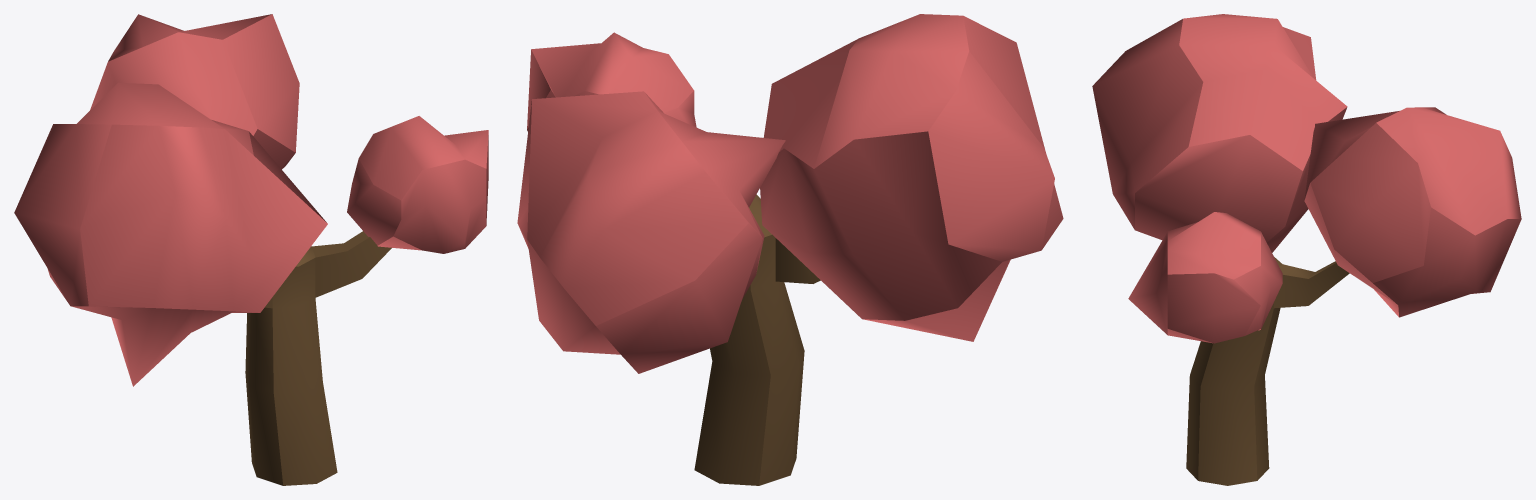
File: Tree.fbx
3 renders of one model, left to right at view 1: azimuth 30°, elevation 25°; view 2: azimuth 150°, elevation 25°; view 3: azimuth 270°, elevation 25°, orthographic. The views are drawn at different scales.
Parts seen in each view (by area): view 1: leaves3, trunk, leaves2, leaves1; view 2: leaves3, leaves2, trunk, leaves1; view 3: leaves3, leaves2, leaves1, trunk.
Part boxes in pixels (x1,y1,x2,y2): leaves3: (14,82,327,386); trunk: (245,231,391,485); leaves2: (90,14,299,169); leaves1: (347,116,488,253); leaves3: (760,14,1063,341); leaves2: (517,91,785,373); trunk: (694,194,820,485); leaves1: (527,32,696,131); leaves3: (1092,14,1347,252); leaves2: (1304,107,1521,317); leaves1: (1128,212,1282,343); trunk: (1186,257,1349,485).
Size of the model in its own units: 0.3551 by 0.2987 by 0.3056.
